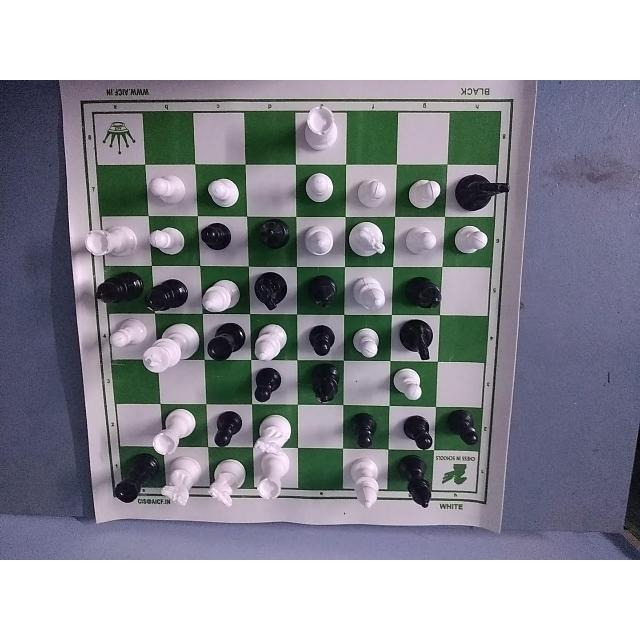black-bishop: (395, 457, 441, 513), (400, 271, 444, 312), (92, 270, 145, 302), (307, 359, 339, 409), (257, 222, 295, 261), (307, 276, 341, 316), (151, 273, 187, 310)
black-knight: (457, 170, 507, 218), (251, 265, 293, 312), (398, 320, 434, 364)
black-pawn: (200, 216, 238, 265), (400, 411, 444, 452), (448, 411, 488, 453), (211, 405, 245, 446), (349, 412, 381, 445), (303, 328, 336, 360), (252, 366, 280, 402)
black-rook: (112, 453, 156, 502), (206, 325, 243, 367)
white-bishop: (199, 274, 243, 319), (350, 458, 384, 512), (303, 224, 345, 263), (353, 270, 387, 312), (253, 327, 289, 361)
white-king: (148, 318, 196, 372)
white-knight: (255, 413, 305, 455), (162, 463, 203, 510), (211, 460, 246, 504), (356, 217, 386, 257)
white-pawn: (145, 164, 195, 212), (147, 218, 189, 262), (448, 219, 492, 260), (349, 320, 385, 366), (301, 167, 337, 211), (402, 221, 439, 260), (204, 167, 240, 207), (407, 175, 442, 213), (356, 167, 388, 208), (107, 318, 142, 352), (396, 369, 427, 402)
white-rook: (297, 99, 339, 148), (85, 223, 137, 261), (152, 410, 192, 452), (255, 461, 289, 505)
